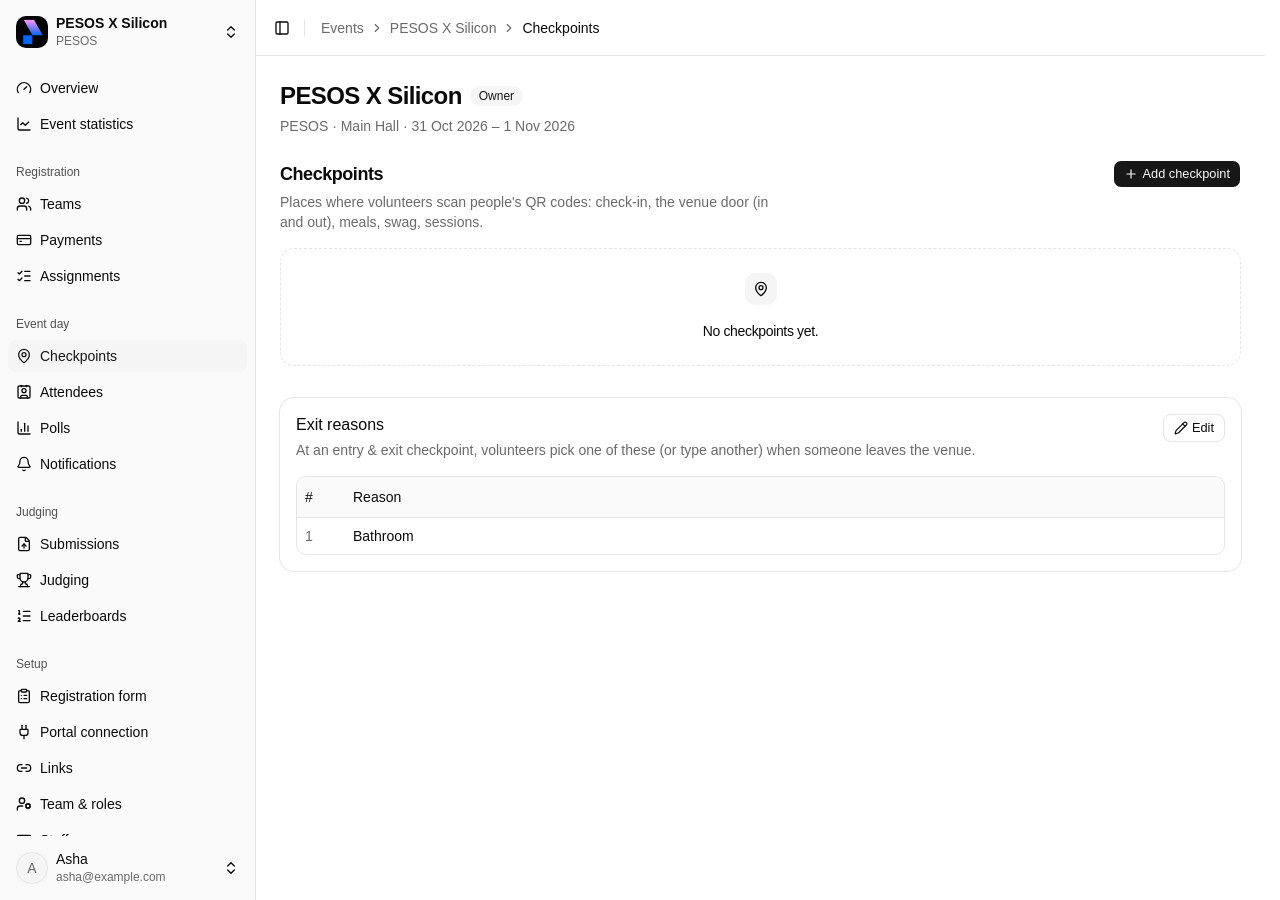
exit reasons (on Checkpoints) › refuses duplicates
Step 1. Click the button "Edit" → {"x": 1194, "y": 428}, box [1163,414,1225,442]
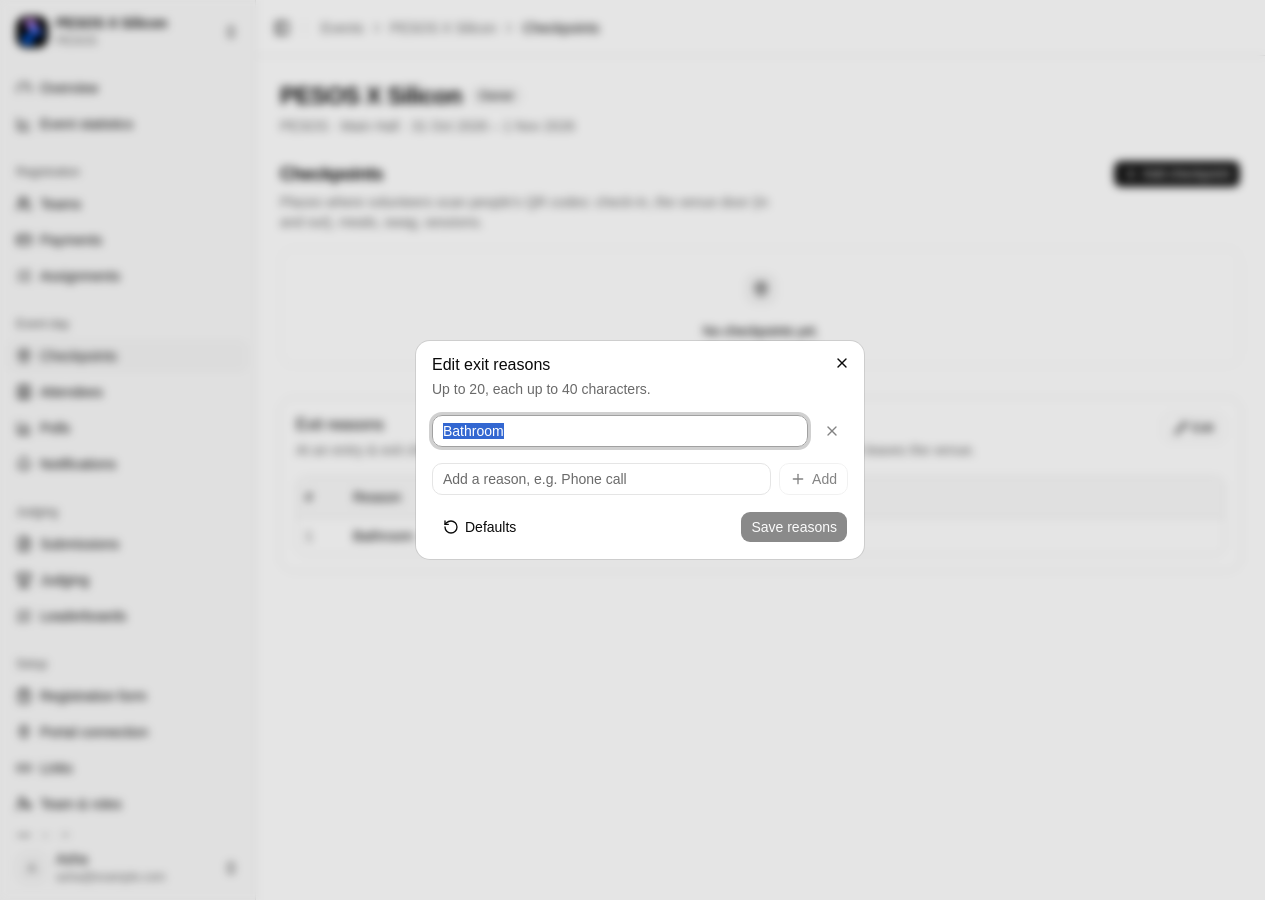
Step 2. Type "bathroom" into the field named "New reason" → {"x": 602, "y": 479}, box [432,463,771,495]
Then press Enter
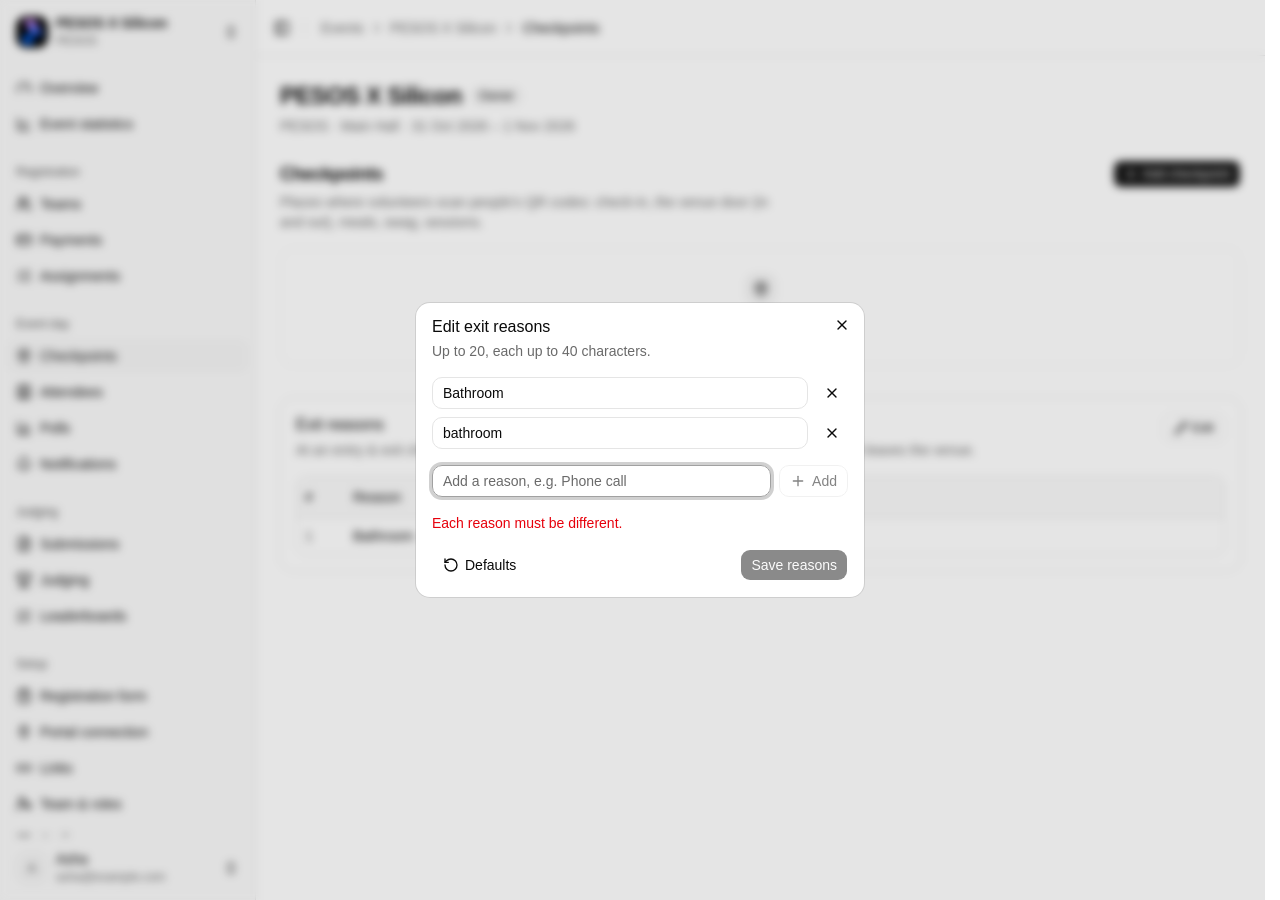
Now the button "Save reasons" is disabled, box [740,549,848,581]
Now the text "Each reason must be different." is shown, box [432,515,622,531]
